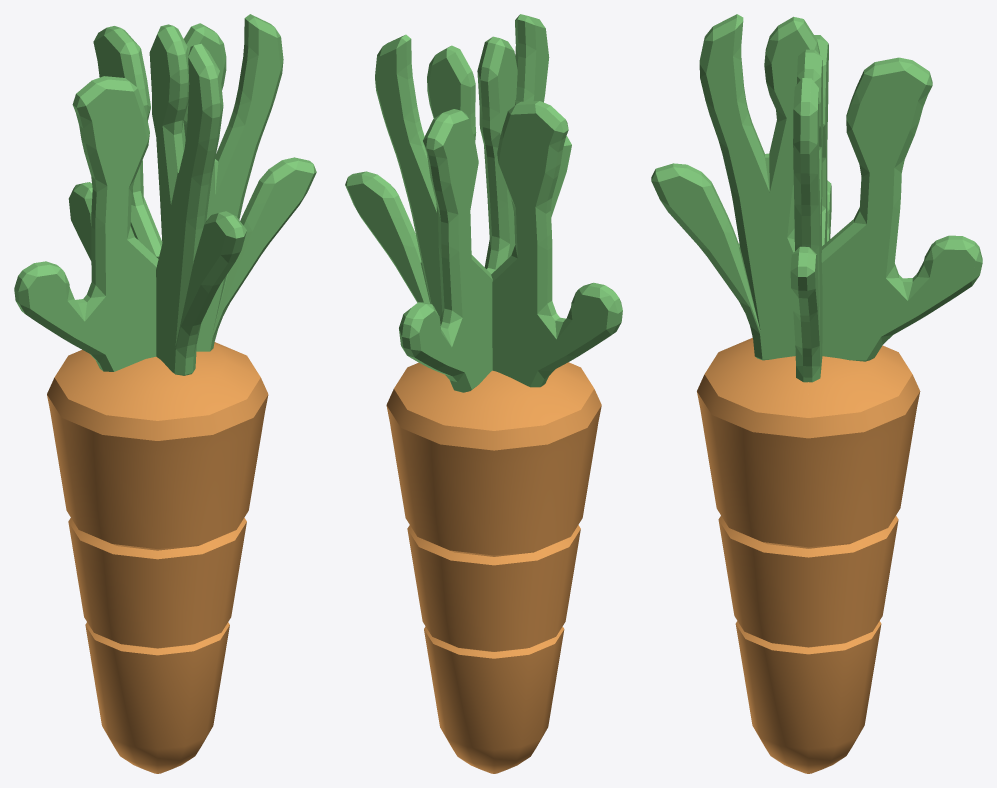
The model's file is Carrot.fbx.
3 renders of one model, left to right at view 1: azimuth 30°, elevation 25°; view 2: azimuth 150°, elevation 25°; view 3: azimuth 270°, elevation 25°, orthographic. The views are drawn at different scales.
Visible parts, largest first — view 1: Plane; view 2: Plane; view 3: Plane.
Boxes of the visible parts, <box> form: Plane: <box>14,14,316,773</box>; Plane: <box>345,14,622,773</box>; Plane: <box>651,14,982,773</box>.
Bounding box in the file's own units: 602 × 1490 × 590.
1 material, 1 textured.
